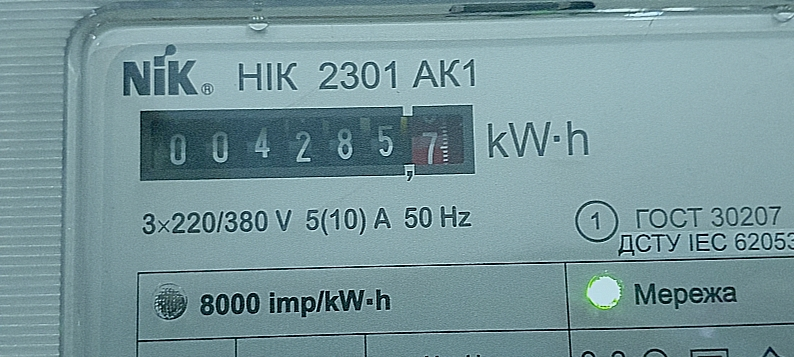0: (208, 128, 230, 165), (166, 131, 187, 166)
2: (292, 128, 311, 164)
4: (252, 124, 269, 159)
5: (373, 122, 394, 158)
7: (418, 129, 437, 166)
8: (332, 125, 353, 162)
screen: (123, 94, 488, 193)
